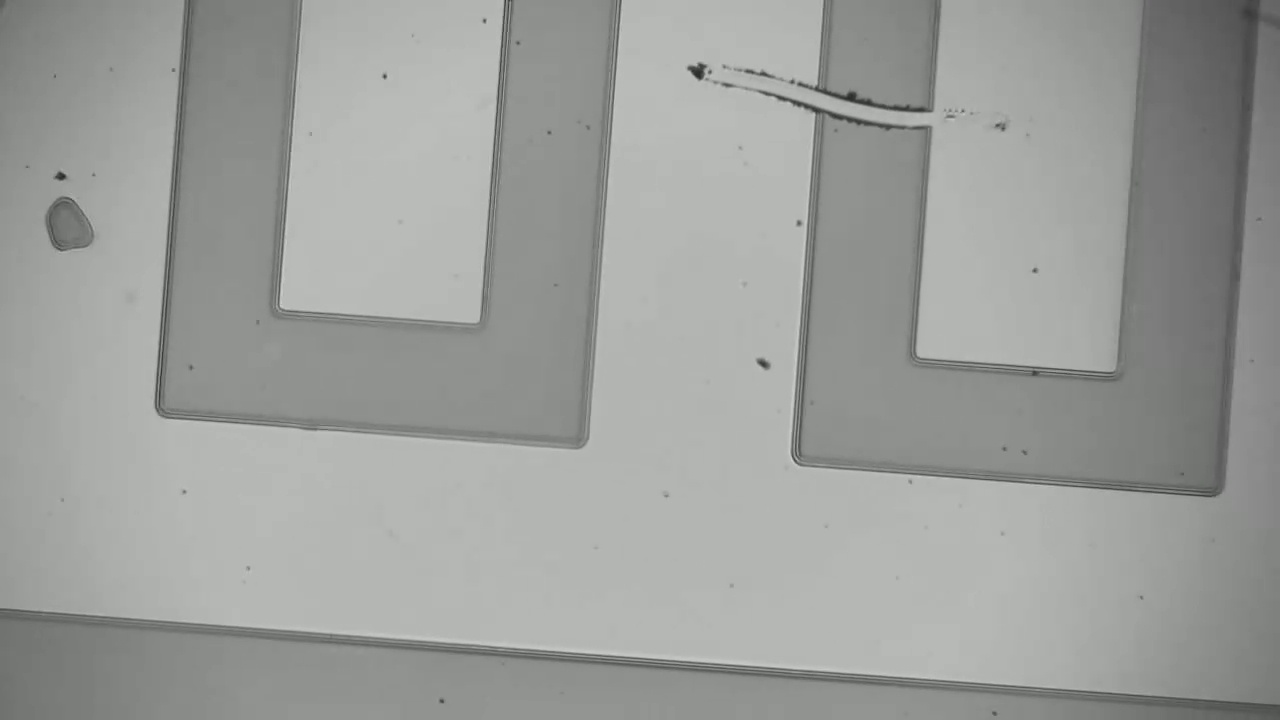Short_circuit: (790, 75, 962, 134)
